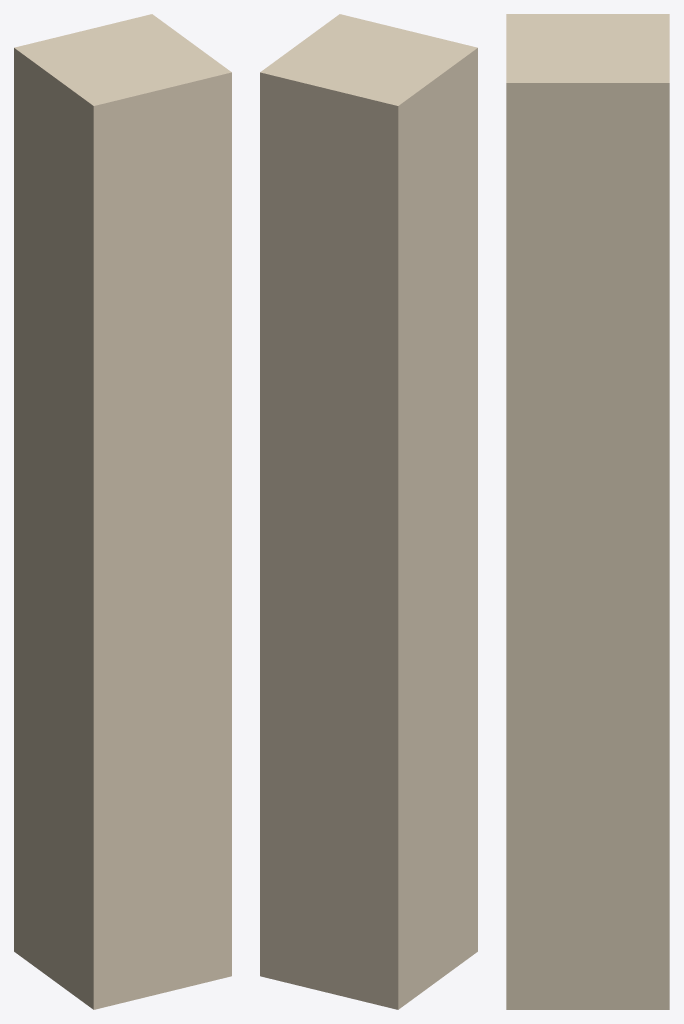
The model's file is ConcreteStack_00.fbx.
3 renders of one model, left to right at view 1: azimuth 30°, elevation 25°; view 2: azimuth 150°, elevation 25°; view 3: azimuth 270°, elevation 25°, orthographic. The views are drawn at different scales.
Parts seen in each view (by area): view 1: Concrete_Stack_00_LOD0; view 2: Concrete_Stack_00_LOD0; view 3: Concrete_Stack_00_LOD0.
Part boxes in pixels (x1,y1,x2,y2): Concrete_Stack_00_LOD0: (14,14,231,1009); Concrete_Stack_00_LOD0: (260,14,477,1009); Concrete_Stack_00_LOD0: (506,14,669,1009).
Size of what is drawn, in the model's own units: 0.4 by 2.5 by 0.4.
